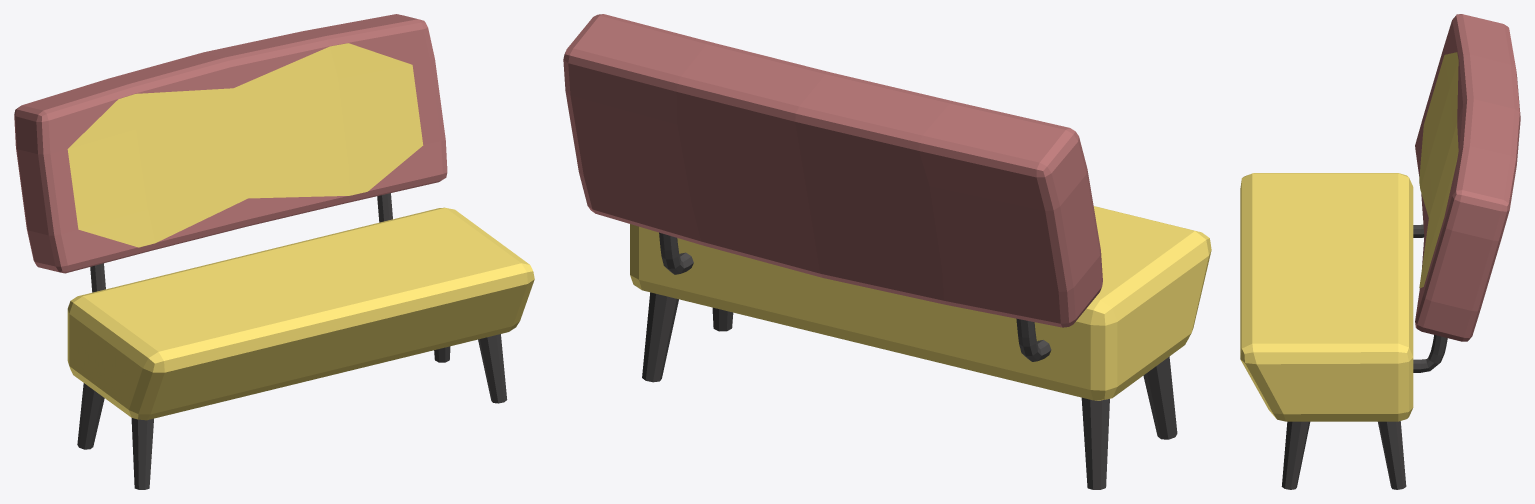
File: Couch_11.fbx
The picture shows the model from 3 angles, left to right: view 1: azimuth 30°, elevation 25°; view 2: azimuth 150°, elevation 25°; view 3: azimuth 270°, elevation 25°; orthographic projection. The views are drawn at different scales.
Parts seen in each view (by area): view 1: Couch_11; view 2: Couch_11; view 3: Couch_11.
Part boxes in pixels (<box>): Couch_11: <box>14,14,534,489</box>; Couch_11: <box>563,14,1211,489</box>; Couch_11: <box>1240,14,1520,489</box>.
Bounding box in the file's own units: 152 × 97.04 × 116.
